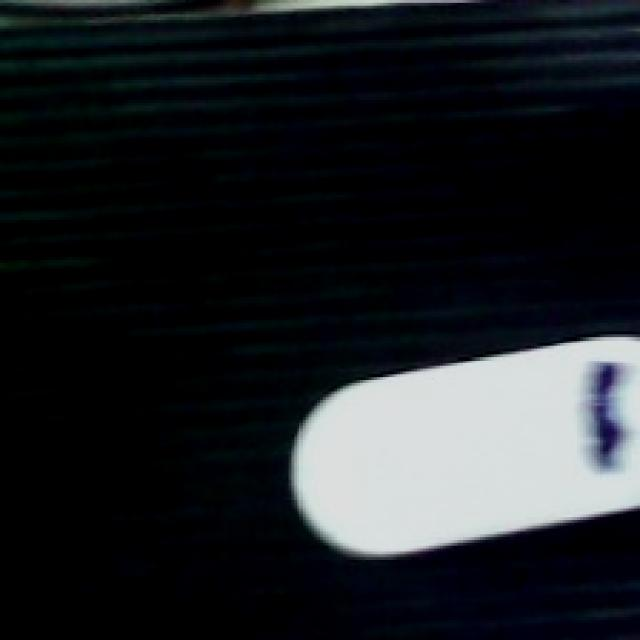defected: (286, 337, 640, 565)
